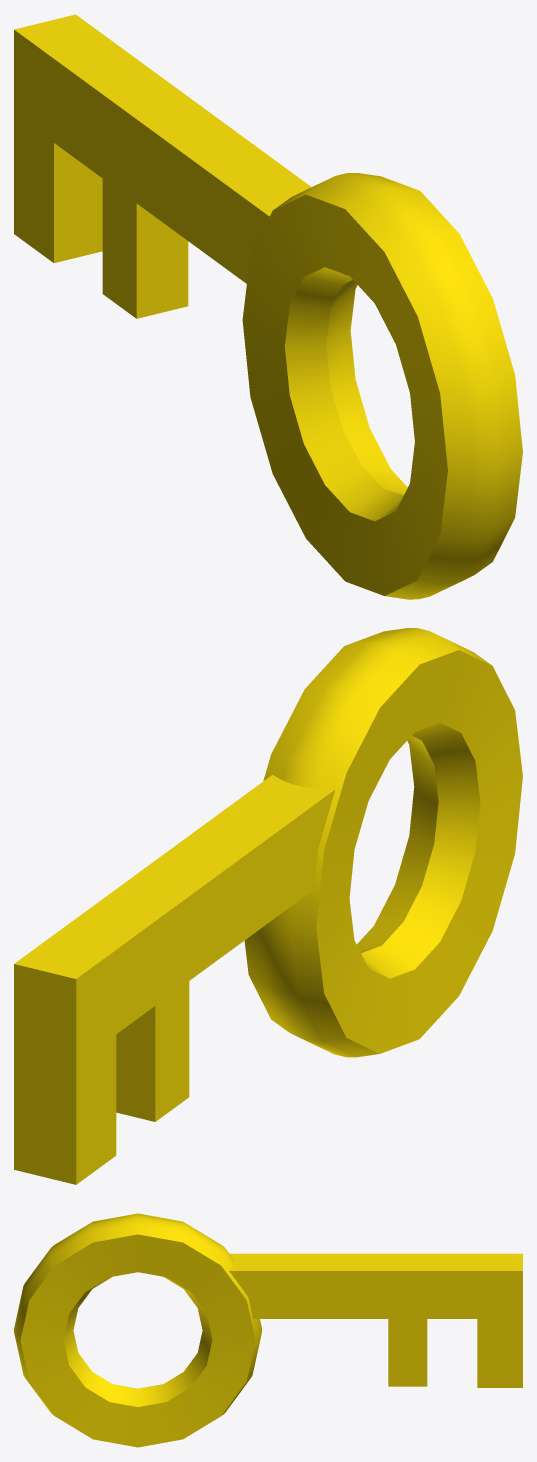
File: Key.fbx
The picture shows the model from 3 angles, top to bottom: view 1: azimuth 30°, elevation 25°; view 2: azimuth 150°, elevation 25°; view 3: azimuth 270°, elevation 25°; orthographic projection. The views are drawn at different scales.
Visible parts, largest first — view 1: Cylinder.025; view 2: Cylinder.025; view 3: Cylinder.025.
Part boxes in pixels (left/top/right/bottom): Cylinder.025: left=14, top=14, right=522, bottom=599; Cylinder.025: left=14, top=628, right=522, bottom=1184; Cylinder.025: left=14, top=1213, right=522, bottom=1447.
Size of the model in its own units: 0.0708 by 0.7274 by 0.3545.
